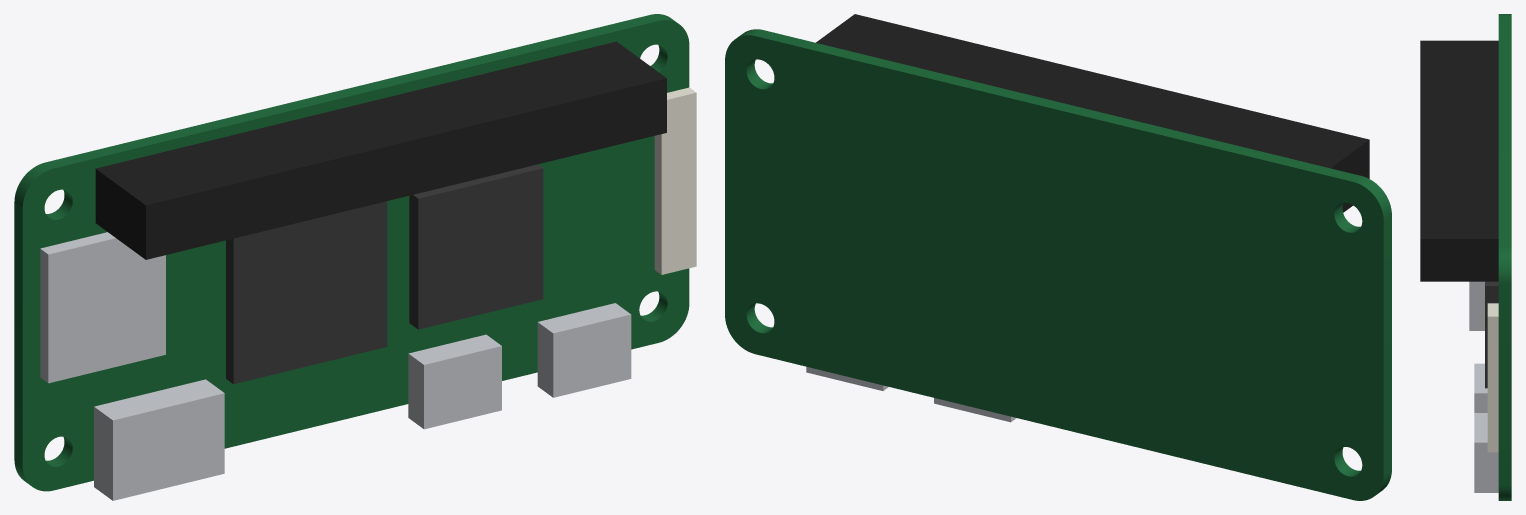
File: board.glb
The picture shows the model from 3 angles, left to right: view 1: azimuth 30°, elevation 25°; view 2: azimuth 150°, elevation 25°; view 3: azimuth 270°, elevation 25°; orthographic projection. The views are drawn at different scales.
Parts seen in each view (by area): view 1: pcb_0, port_gpio_6, rp3a0_7, wifi_shield_8, port_sdcard_5, port_hdmi_1, port_power_3, port_usb_2, port_csi_4; view 2: pcb_0, port_gpio_6; view 3: port_gpio_6, pcb_0, port_csi_4, port_power_3, port_hdmi_1, port_usb_2, wifi_shield_8.
Part boxes in pixels (bbox=[...]): pcb_0: bbox=[14, 14, 689, 491]; port_gpio_6: bbox=[95, 41, 666, 259]; rp3a0_7: bbox=[226, 201, 387, 384]; wifi_shield_8: bbox=[409, 164, 543, 329]; port_sdcard_5: bbox=[40, 232, 165, 383]; port_hdmi_1: bbox=[94, 379, 224, 500]; port_power_3: bbox=[537, 303, 631, 397]; port_usb_2: bbox=[408, 334, 501, 429]; port_csi_4: bbox=[654, 87, 696, 274]; pcb_0: bbox=[725, 29, 1391, 500]; port_gpio_6: bbox=[816, 14, 1369, 212]; port_gpio_6: bbox=[1420, 40, 1498, 281]; pcb_0: bbox=[1498, 14, 1511, 500]; port_csi_4: bbox=[1487, 303, 1498, 452]; port_power_3: bbox=[1474, 413, 1498, 492]; port_hdmi_1: bbox=[1469, 281, 1484, 330]; port_usb_2: bbox=[1474, 363, 1487, 412]; wifi_shield_8: bbox=[1485, 281, 1498, 388].
Size of the model in its own units: 65 by 31.3 by 9.9.
